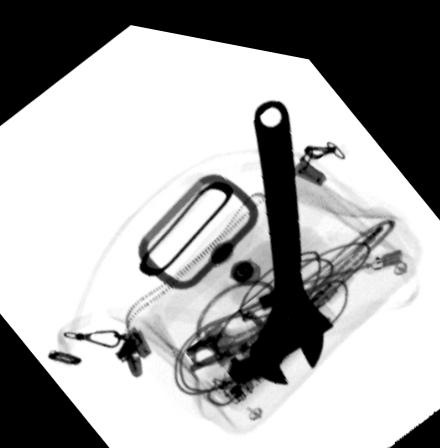Wrench: (247, 86, 336, 375)
